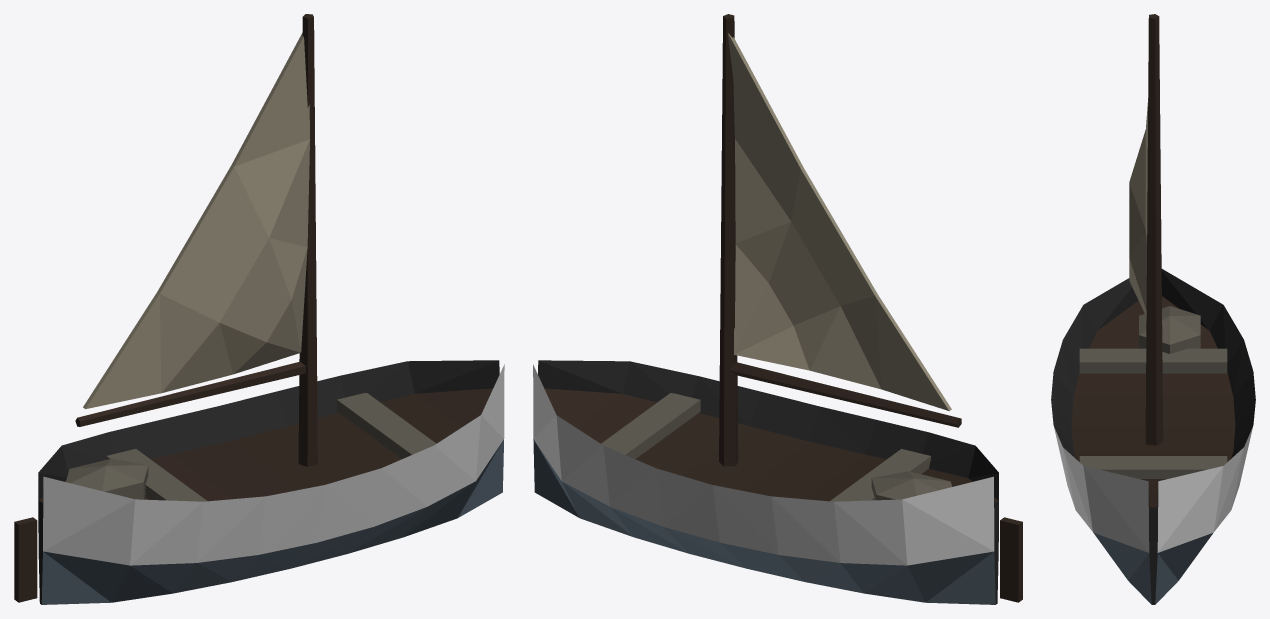
Rendered from dory.fjord.glb.
3 renders of one model, left to right at view 1: azimuth 30°, elevation 25°; view 2: azimuth 150°, elevation 25°; view 3: azimuth 270°, elevation 25°, orthographic. The views are drawn at different scales.
Parts seen in each view (by area): view 1: trim, sail, hull, mast; view 2: trim, sail, hull, mast; view 3: trim, hull, mast, sail.
Part boxes in pixels (x1,y1,x2,y2): trim: [14, 360, 503, 604]; sail: [83, 32, 309, 409]; hull: [43, 364, 504, 565]; mast: [75, 14, 317, 466]; trim: [533, 360, 1022, 604]; sail: [727, 33, 951, 411]; hull: [533, 364, 994, 565]; mast: [719, 14, 961, 466]; trim: [1051, 269, 1255, 604]; hull: [1054, 427, 1252, 552]; mast: [1145, 14, 1163, 445]; sail: [1129, 98, 1148, 316].
Bounding box in the file's own units: 1.3 × 1.36 × 0.5.
